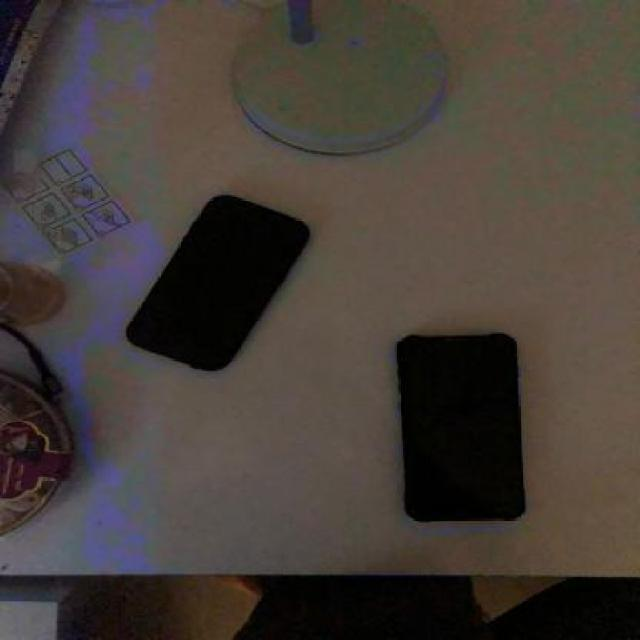phone: (122, 194, 313, 374), (398, 333, 532, 519)
